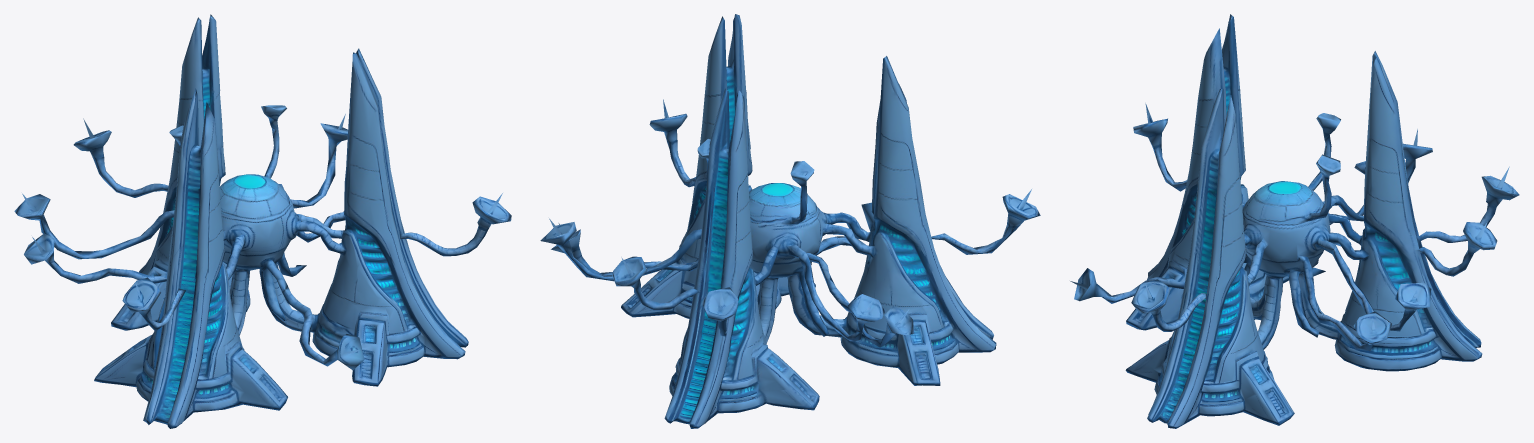
The model's file is building-signal-station.glb.
3 renders of one model, left to right at view 1: azimuth 30°, elevation 25°; view 2: azimuth 150°, elevation 25°; view 3: azimuth 270°, elevation 25°, orthographic.
Parts seen in each view (by area): view 1: tripo_node_cec687fb-96ba-4cf1-9eed-1be955bcf40f; view 2: tripo_node_cec687fb-96ba-4cf1-9eed-1be955bcf40f; view 3: tripo_node_cec687fb-96ba-4cf1-9eed-1be955bcf40f.
Boxes of the visible parts, x1,y1,x2,y2 form: tripo_node_cec687fb-96ba-4cf1-9eed-1be955bcf40f: (14, 14, 511, 428); tripo_node_cec687fb-96ba-4cf1-9eed-1be955bcf40f: (540, 14, 1040, 428); tripo_node_cec687fb-96ba-4cf1-9eed-1be955bcf40f: (1070, 14, 1519, 428).
Size of the model in its own units: 0.9663 by 0.721 by 0.9777.
Materials: 1 (1 with a texture image).
